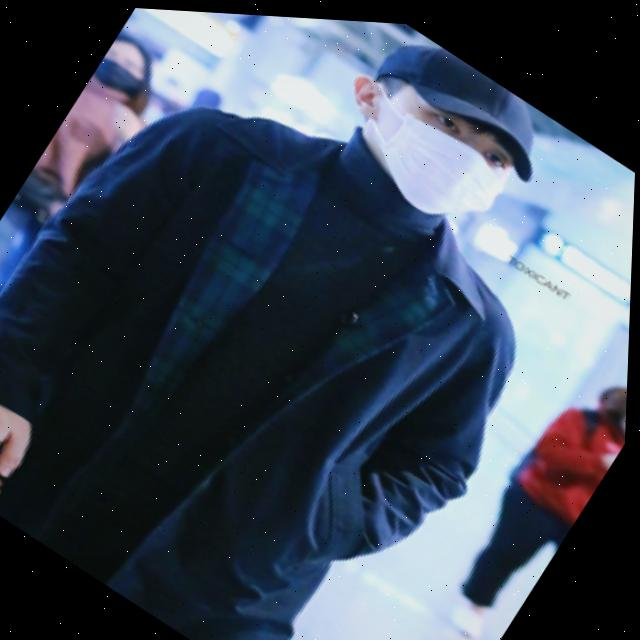Mask: (311, 51, 527, 242), (90, 39, 156, 104)
